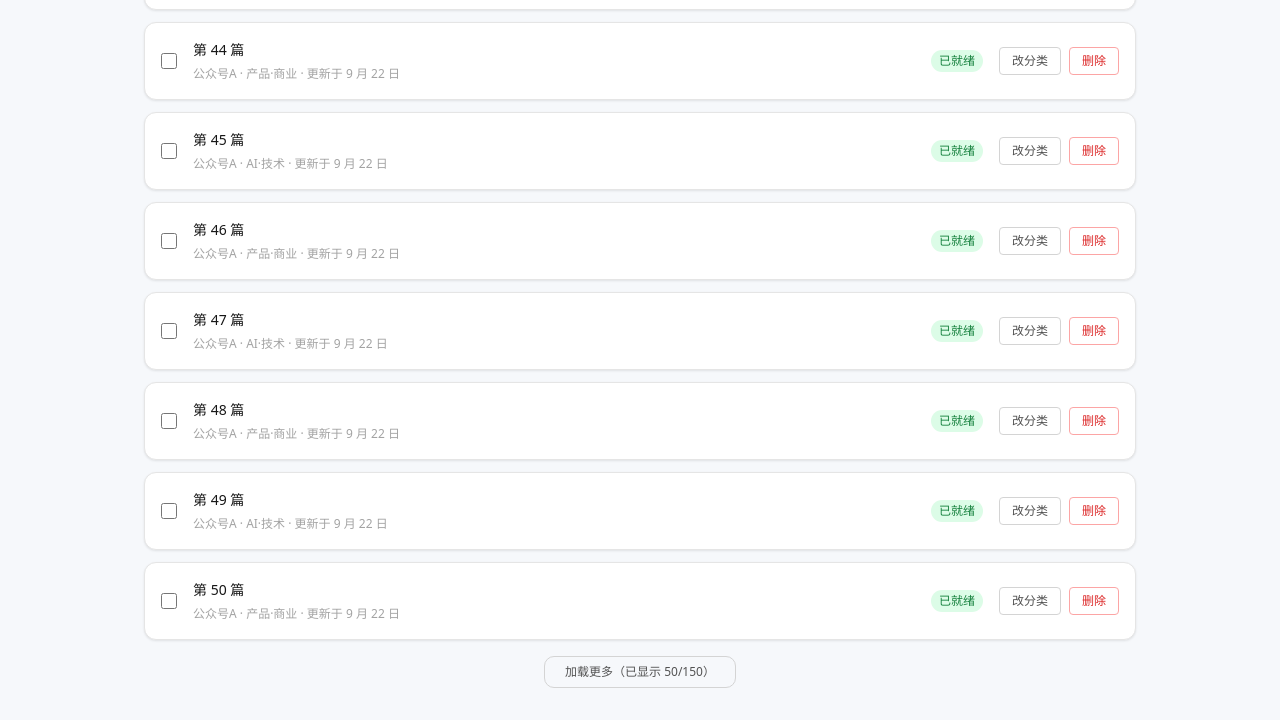
Test: R0.1.4 空态不得误报（客户端过滤时代的核心错报） › 过滤清空后回到首屏语义，不残留上一页的累积行
(page scrolled)
Click the button "加载更多（已显示 50/150）" at (640, 672), box [544, 656, 736, 688]
(page scrolled)
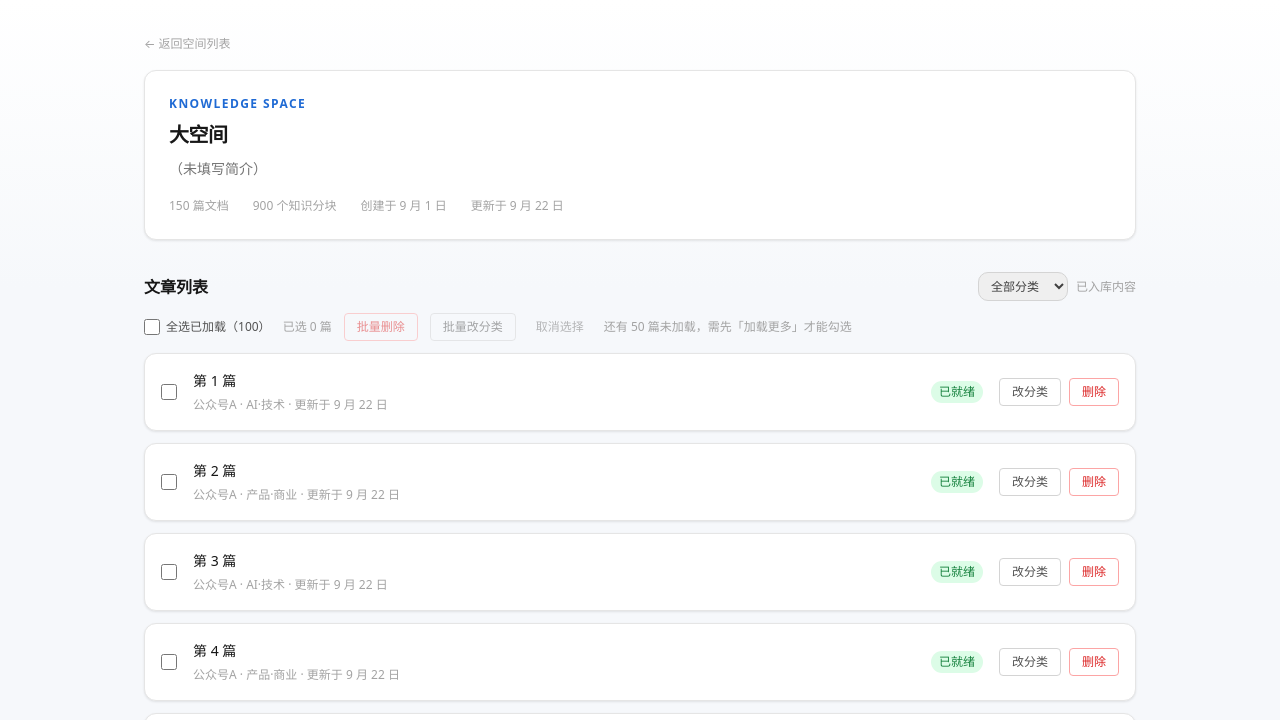
Expected: the number of list items is 100
Select "AI·技术" in the dropdown named "按分类筛选" at (1023, 286), box [978, 272, 1068, 301]
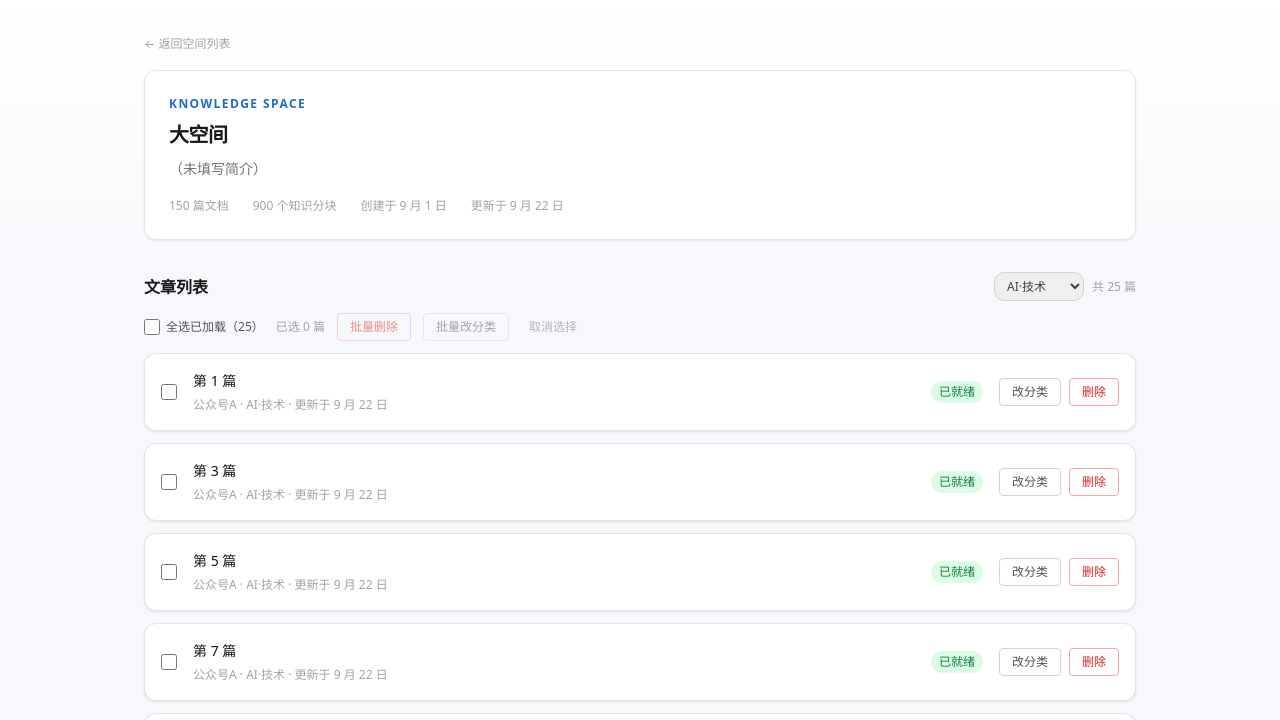
Expected: the number of list items is 25
